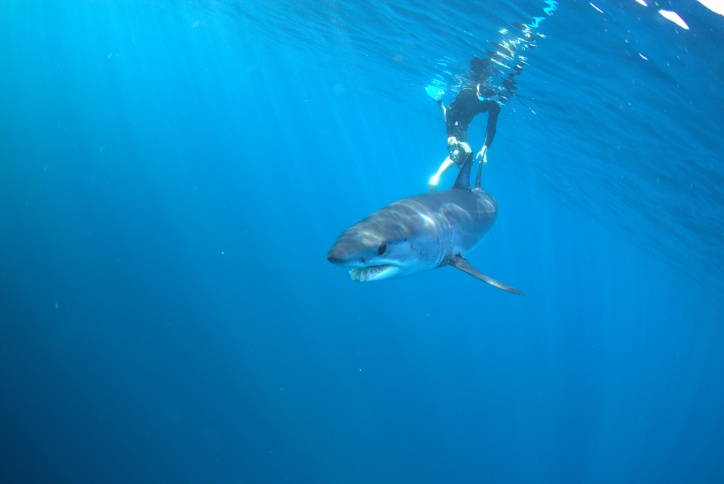Mako: (314, 146, 530, 314)
